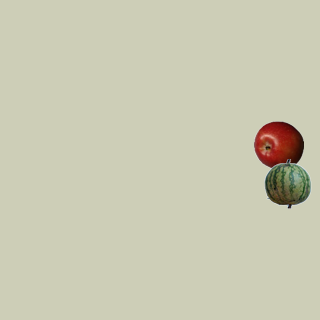Apple Braeburn: (253, 120, 303, 170)
Watermelon: (262, 158, 312, 208)
